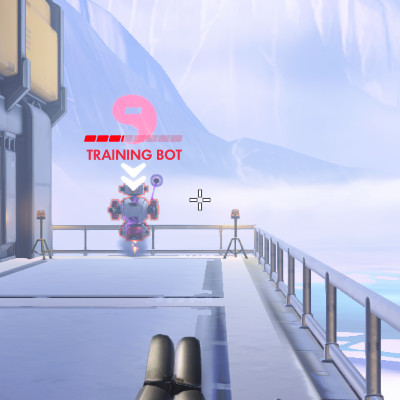hpbar: (83, 134, 183, 143)
